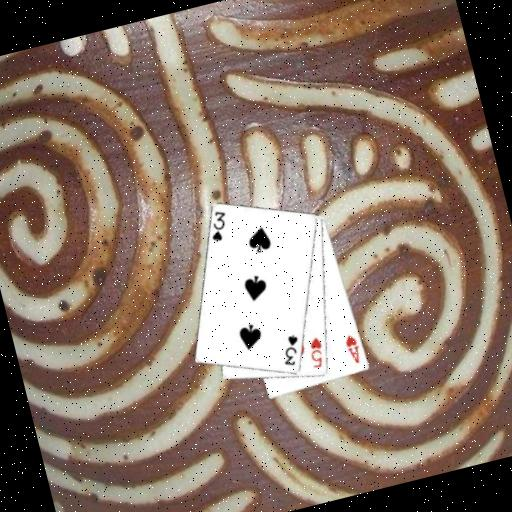3S: (275, 331, 306, 370), (203, 207, 234, 246)
5H: (303, 333, 329, 371)
AH: (341, 331, 364, 367)
